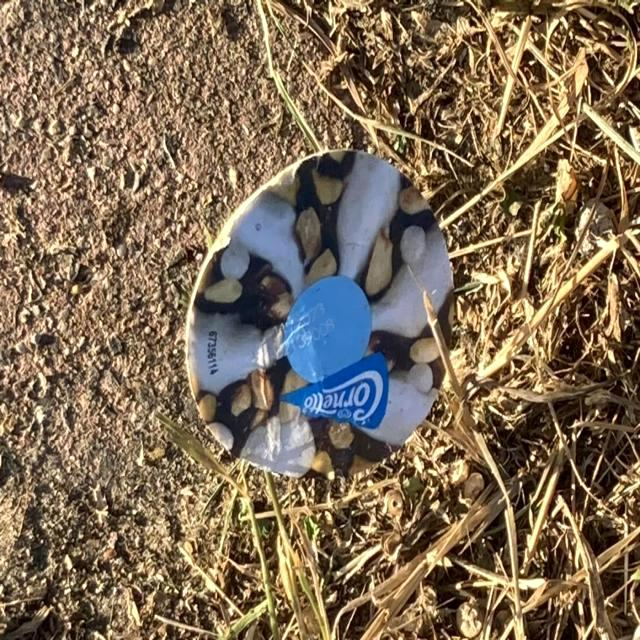Paper: (181, 142, 457, 482)
